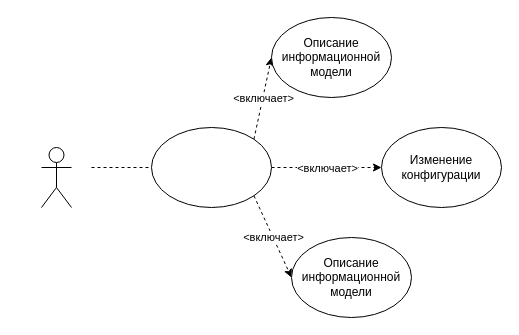
Some shapes in this 519 by 335 pixel diagram are drawn without their labels. Each missing label, with the centre of its shape:
"Пользование программой верификации" belongs at pixel 211 167.
"Пользователь системы" belongs at pixel 56 177.
